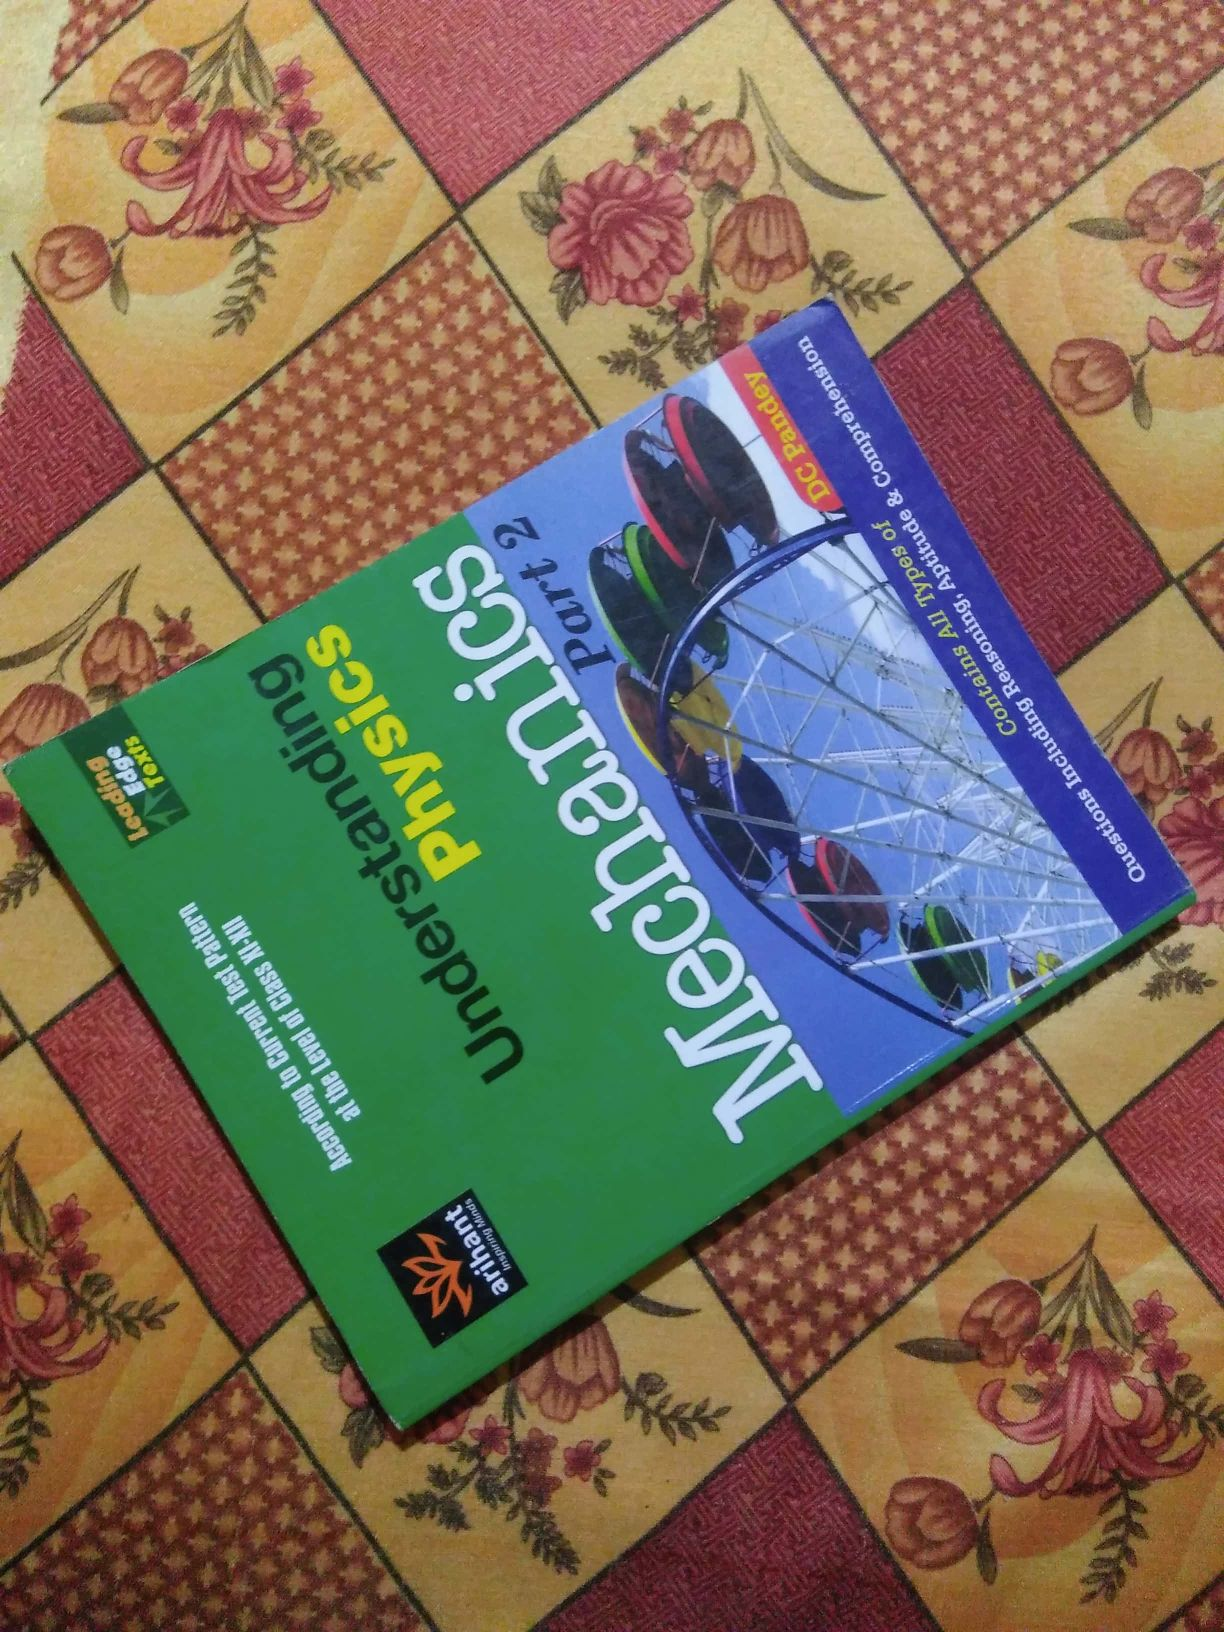mechanics: (51, 353, 1140, 1383)
